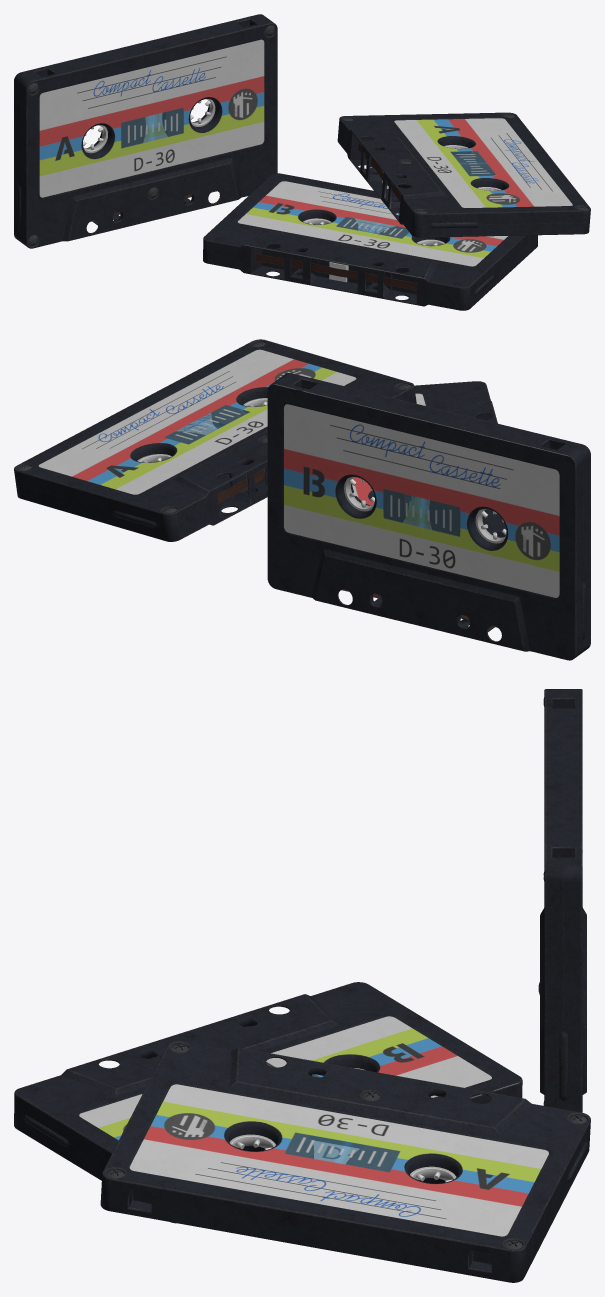
Rendered from cassette_tape_fita_cassete.glb.
The picture shows the model from 3 angles, top to bottom: view 1: azimuth 30°, elevation 25°; view 2: azimuth 150°, elevation 25°; view 3: azimuth 270°, elevation 25°; orthographic projection. The views are drawn at different scales.
Visible parts, largest first — view 1: Fita Low, Fita Low.001, Fita Low.002, Rodinhas Low, Filme Low.001, Rodinhas Low.002, Rodinhas Low.001, Parafusos Low; view 2: Fita Low, Fita Low.002, Fita Low.001, Rodinhas Low, Rodinhas Low.002; view 3: Fita Low.002, Fita Low.001, Fita Low, Rodinhas Low.002.
Boxes of the visible parts, left/top/right/bottom form: Fita Low: left=14, top=14, right=277, bottom=248; Fita Low.001: left=203, top=173, right=537, bottom=310; Fita Low.002: left=337, top=112, right=590, bottom=237; Rodinhas Low: left=83, top=99, right=215, bottom=153; Filme Low.001: left=255, top=253, right=416, bottom=290; Rodinhas Low.002: left=444, top=145, right=501, bottom=190; Rodinhas Low.001: left=303, top=217, right=444, bottom=245; Parafusos Low: left=28, top=25, right=275, bottom=246; Fita Low: left=267, top=373, right=590, bottom=660; Fita Low.002: left=14, top=339, right=416, bottom=541; Fita Low.001: left=352, top=381, right=506, bottom=537; Rodinhas Low: left=344, top=477, right=506, bottom=543; Rodinhas Low.002: left=137, top=398, right=267, bottom=462; Fita Low.002: left=100, top=1041, right=590, bottom=1282; Fita Low.001: left=14, top=982, right=522, bottom=1223; Fita Low: left=540, top=689, right=586, bottom=1112; Rodinhas Low.002: left=229, top=1133, right=456, bottom=1182.
Size of the model in its own units: 1323 by 440 by 910.
Materials: 5 (5 with a texture image).
